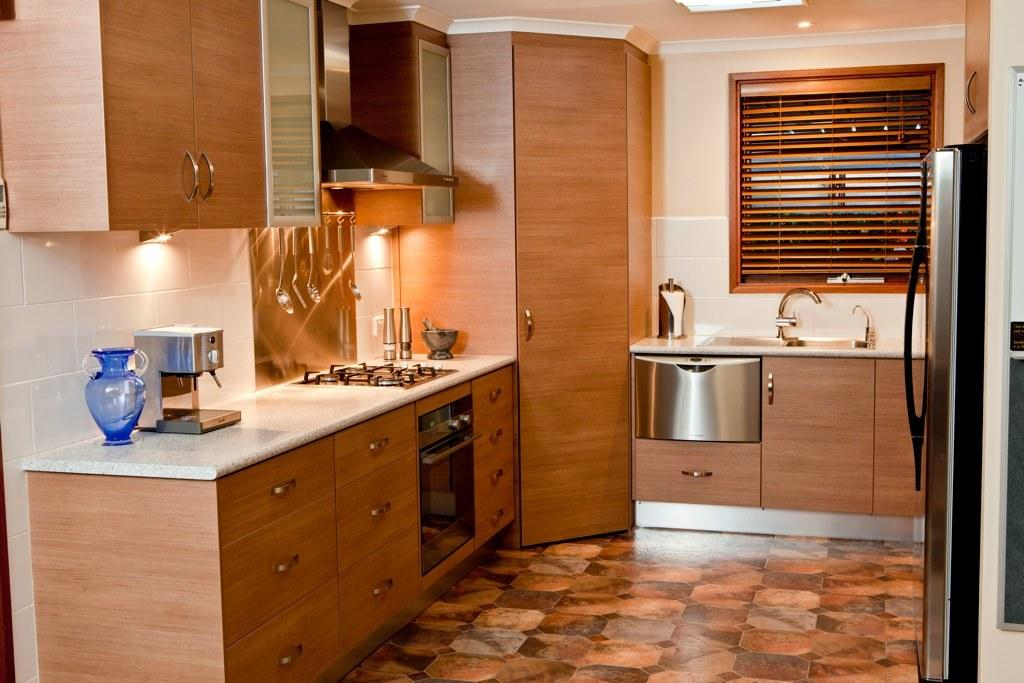cabinet_door: (510, 47, 632, 518), (106, 3, 196, 217), (763, 344, 872, 502), (195, 16, 264, 223), (262, 5, 320, 217), (214, 513, 336, 585), (225, 598, 337, 674), (631, 432, 759, 496), (418, 44, 460, 216), (214, 459, 334, 510), (332, 426, 414, 491), (334, 492, 418, 552), (340, 558, 419, 618), (472, 377, 514, 422), (476, 454, 514, 500), (472, 501, 520, 530), (476, 422, 515, 454)
handle: (894, 242, 930, 431), (418, 426, 478, 467), (194, 148, 222, 201), (178, 146, 200, 203), (269, 551, 303, 584), (260, 470, 299, 498), (366, 494, 396, 528), (966, 66, 982, 123), (278, 638, 304, 673), (518, 304, 540, 342), (678, 463, 716, 484), (370, 571, 396, 601), (761, 365, 781, 403), (365, 432, 391, 460), (488, 460, 507, 490), (487, 503, 507, 528), (486, 424, 504, 447), (489, 384, 504, 403)
